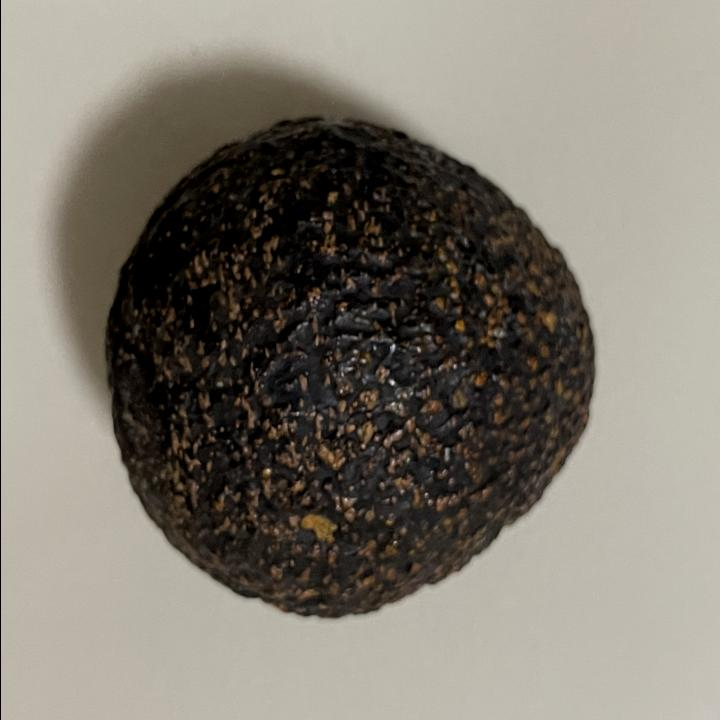Level3: (96, 105, 606, 635)
